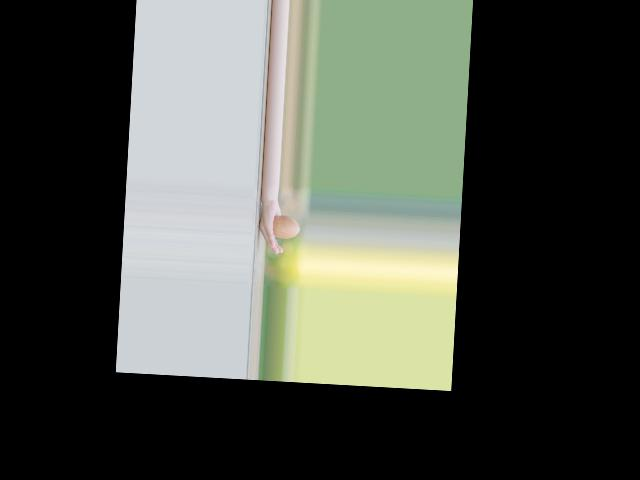egg: (272, 214, 300, 239)
